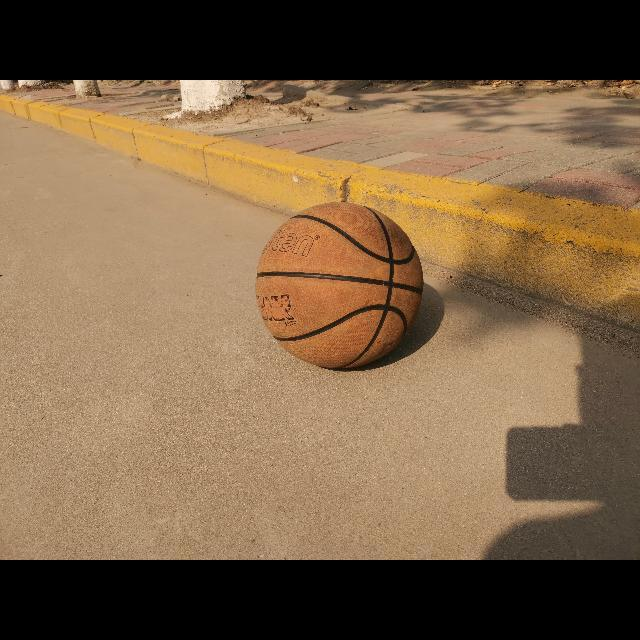basketball: (255, 202, 423, 370)
